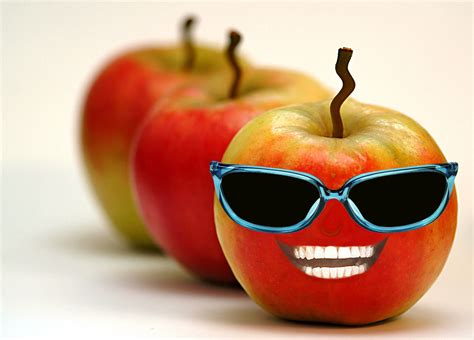apple: (207, 92, 463, 332)
